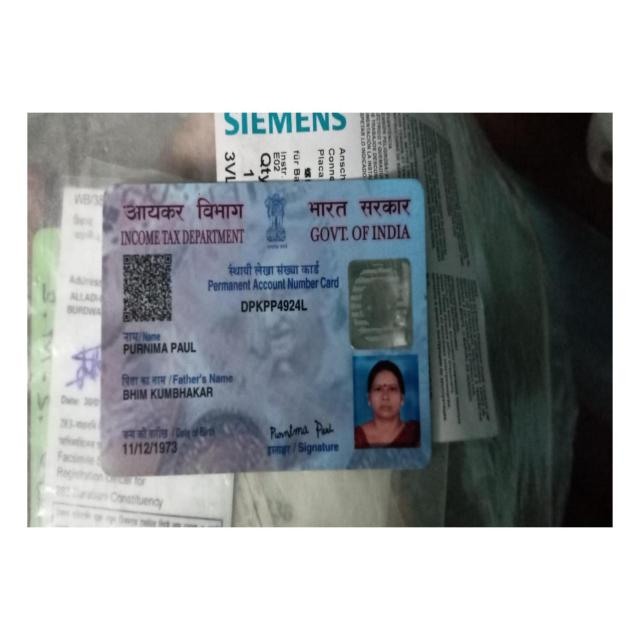pan_card: (103, 177, 432, 474)
